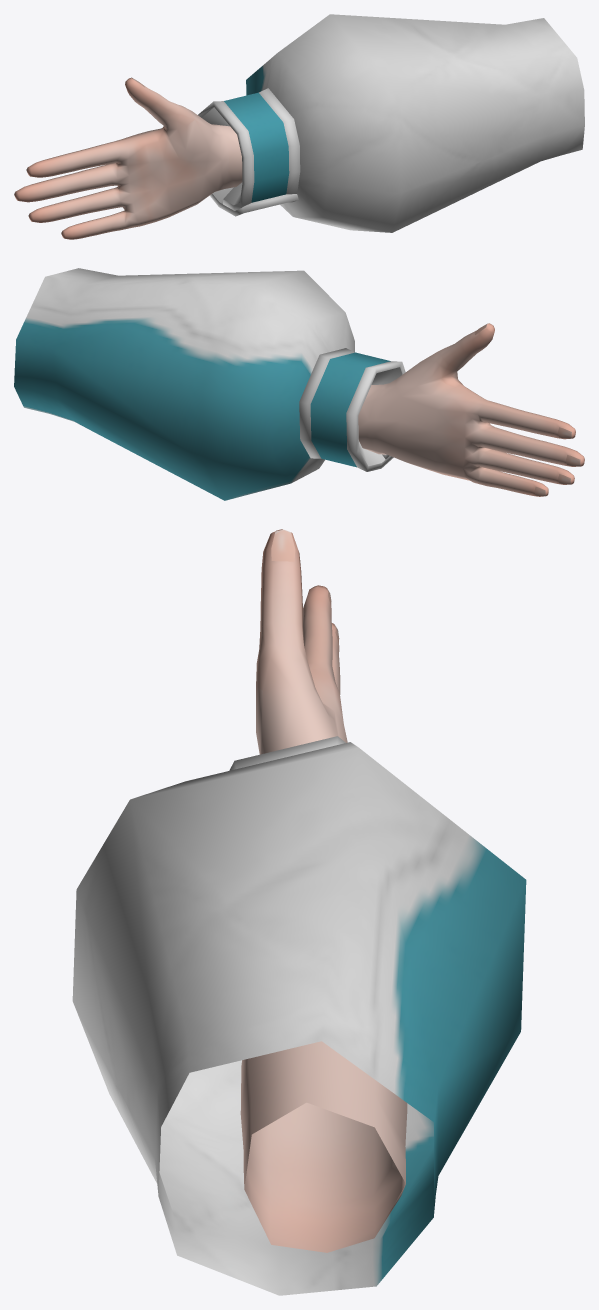
File: KOSHIRO_Brazo_2.obj
3 renders of one model, top to bottom at view 1: azimuth 30°, elevation 25°; view 2: azimuth 150°, elevation 25°; view 3: azimuth 270°, elevation 25°, orthographic. The views are drawn at different scales.
Visible parts, largest first — view 1: Brazo_2_face_Plane.003; view 2: Brazo_2_face_Plane.003; view 3: Brazo_2_face_Plane.003.
Boxes of the visible parts, x1,y1,x2,y2 form: Brazo_2_face_Plane.003: (14,14,584,239); Brazo_2_face_Plane.003: (14,268,584,500); Brazo_2_face_Plane.003: (72,529,526,1295).
Size of the model in its own units: 0.3601 by 0.1316 by 0.1324.
